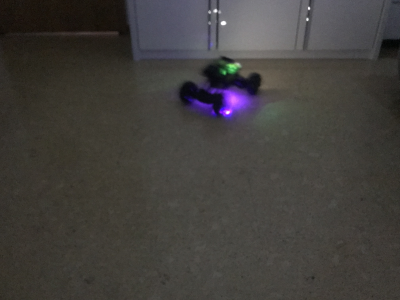remote control car: (175, 52, 268, 116)
